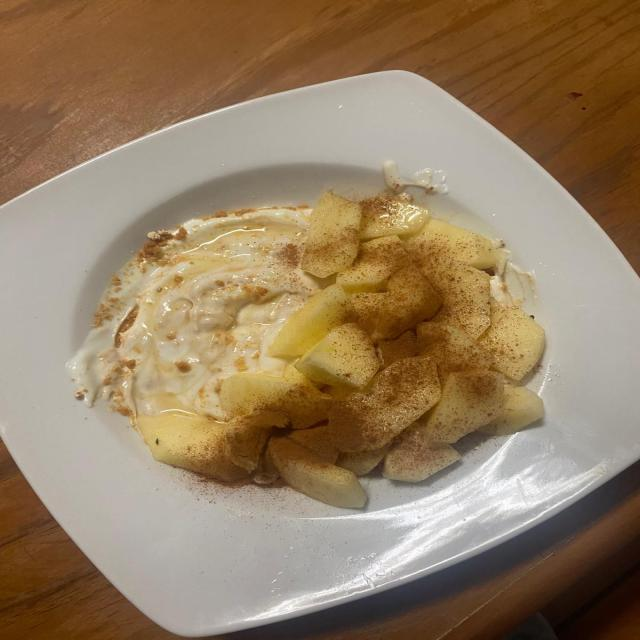cake: (71, 187, 544, 508)
plate: (0, 71, 639, 636)
